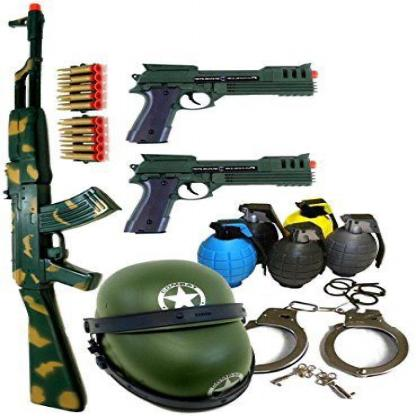Grenade: (195, 218, 268, 288), (328, 212, 386, 277), (272, 223, 328, 290), (238, 201, 289, 267), (283, 197, 341, 242)
Gun: (3, 2, 122, 414)
Pistol: (125, 60, 321, 148), (121, 150, 319, 237)
